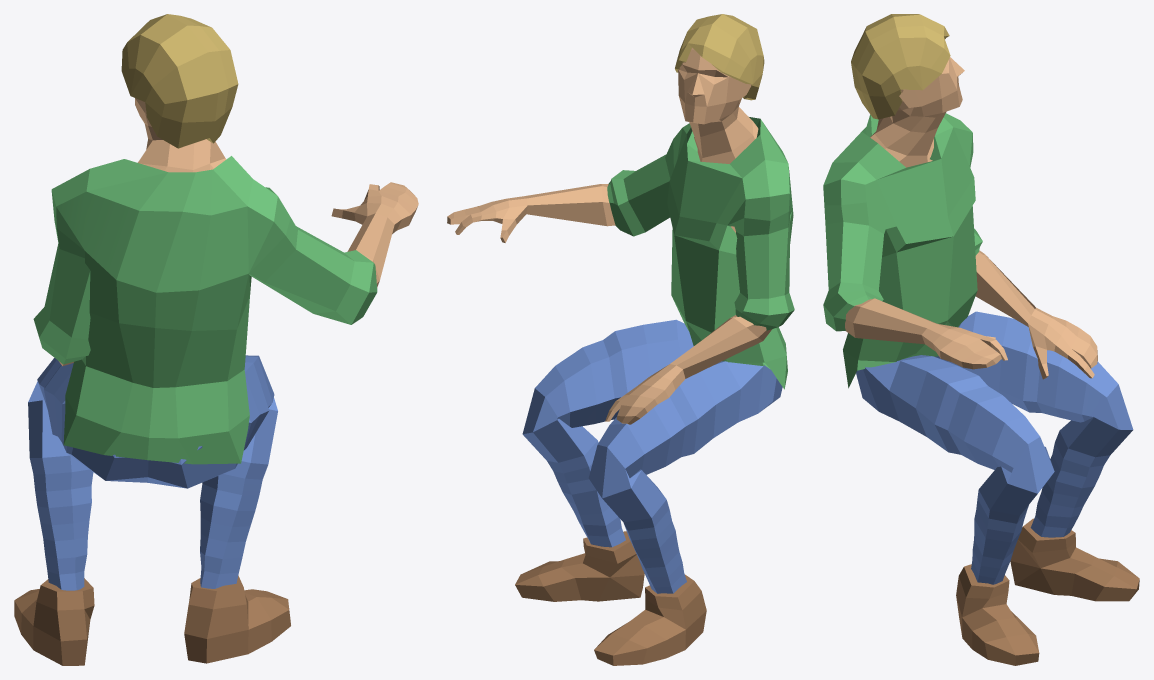
Rendered from avatar_chair.glb.
The picture shows the model from 3 angles, left to right: view 1: azimuth 30°, elevation 25°; view 2: azimuth 150°, elevation 25°; view 3: azimuth 270°, elevation 25°; orthographic projection. The views are drawn at different scales.
Parts seen in each view (by area): view 1: male.004_Circle.001; view 2: male.004_Circle.001; view 3: male.004_Circle.001.
Boxes of the visible parts, x1,y1,x2,y2 form: male.004_Circle.001: (14,14,418,665); male.004_Circle.001: (447,14,794,665); male.004_Circle.001: (823,14,1139,665).
Size of the model in its own units: 1.37 by 2.3 by 1.13.
